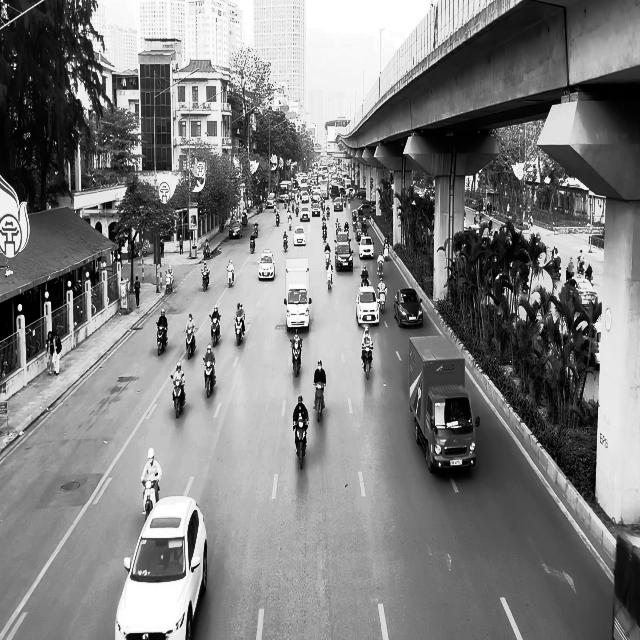car: (115, 495, 208, 639), (393, 287, 423, 328), (564, 276, 597, 312), (355, 286, 380, 326), (335, 242, 353, 272), (258, 252, 275, 280), (358, 236, 374, 259), (228, 220, 242, 239), (293, 226, 306, 245), (300, 204, 310, 221)
motorbike: (140, 476, 160, 520), (293, 416, 308, 469), (170, 374, 186, 418), (203, 358, 216, 398), (313, 382, 325, 422), (290, 338, 302, 376), (361, 344, 373, 380), (208, 313, 220, 346), (156, 322, 168, 355), (234, 313, 245, 345), (185, 328, 196, 359), (377, 286, 387, 312), (201, 268, 209, 291), (326, 263, 333, 289), (227, 268, 234, 288), (250, 234, 256, 253), (283, 234, 288, 251)
truck: (408, 334, 480, 473), (284, 258, 311, 331)
